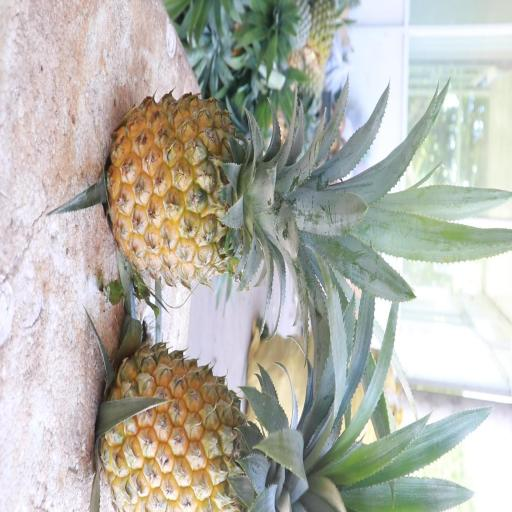Pineapple - v8 v1: (104, 86, 331, 294), (96, 336, 347, 512)
